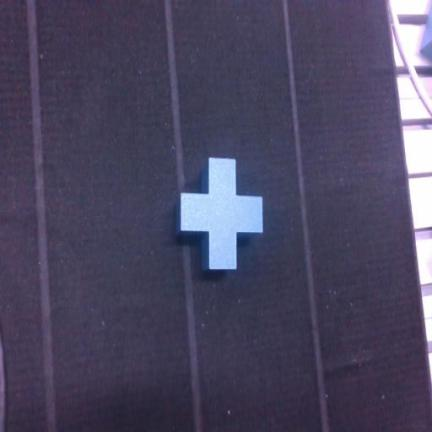cross: (177, 158, 262, 270), (180, 158, 262, 269)
